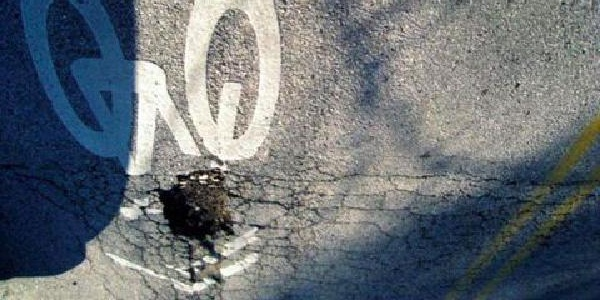pothole: (153, 161, 245, 248)
